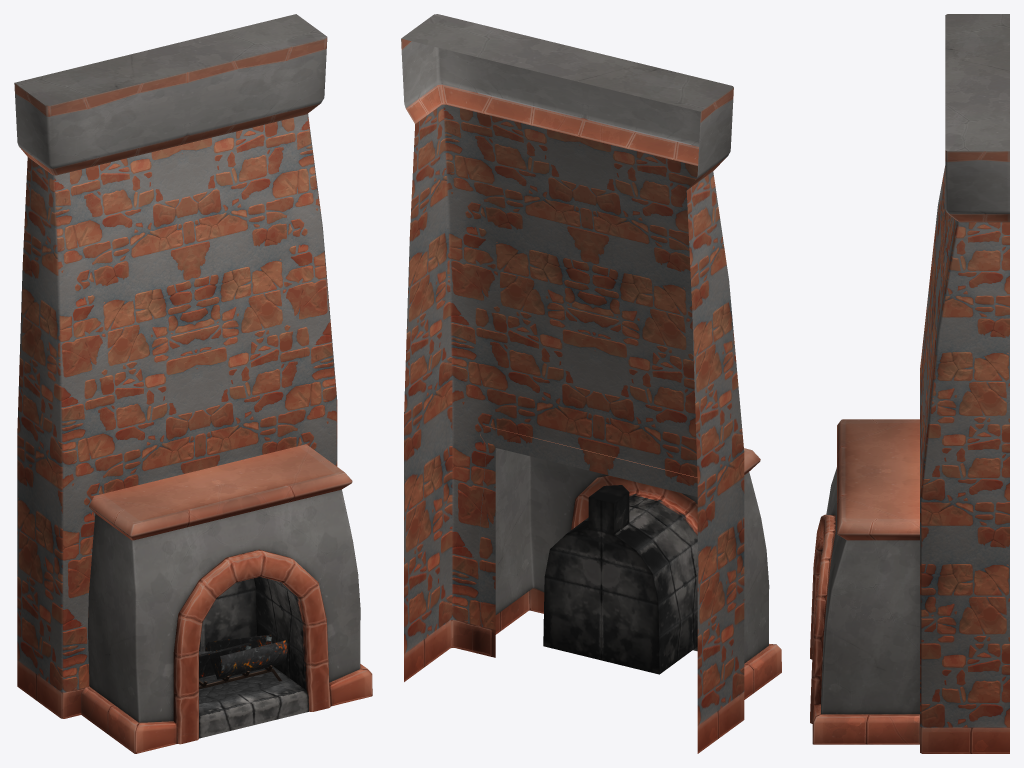
Rendered from FirePlace01_1.FBX.
3 views of the same model, side by side, from view 1: azimuth 30°, elevation 25°; view 2: azimuth 150°, elevation 25°; view 3: azimuth 270°, elevation 25° (orthographic). The views are drawn at different scales.
Parts seen in each view (by area): view 1: FirePlace01_1; view 2: FirePlace01_1; view 3: FirePlace01_1.
Part boxes in pixels (bbox=[...]): FirePlace01_1: bbox=[14, 14, 372, 753]; FirePlace01_1: bbox=[401, 14, 781, 753]; FirePlace01_1: bbox=[810, 14, 1009, 753].
Size of what is drawn, in the model's own units: 1.68 by 3.45 by 1.03.
